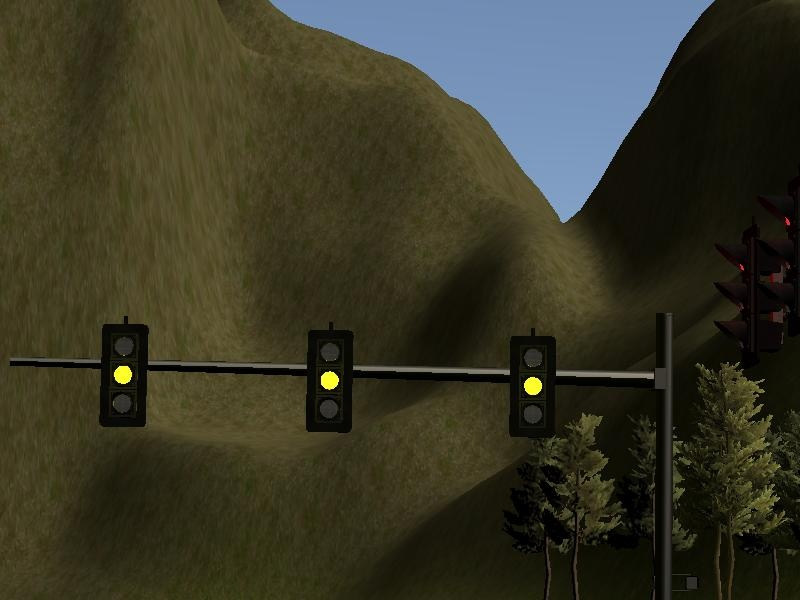YELLOW: (99, 320, 151, 431), (303, 324, 355, 435), (506, 329, 558, 440)
